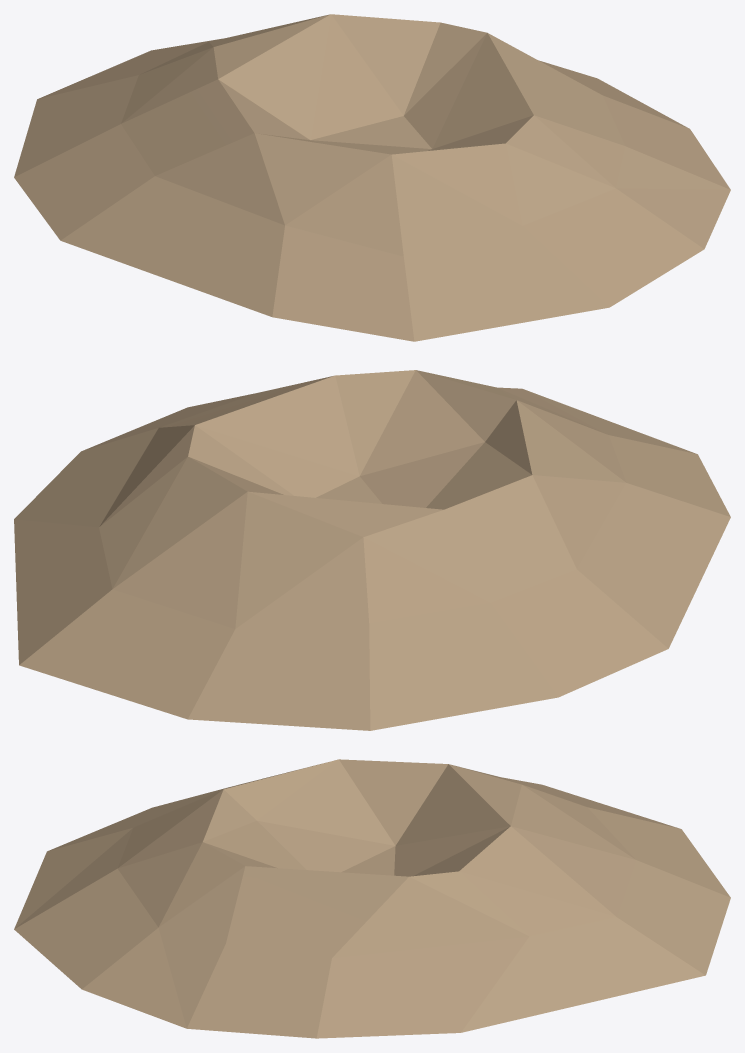
Rendered from kingdom_SM_Env_Ground_Crater_01.gltf.
3 renders of one model, top to bottom at view 1: azimuth 30°, elevation 25°; view 2: azimuth 150°, elevation 25°; view 3: azimuth 270°, elevation 25°, orthographic. The views are drawn at different scales.
Visible parts, largest first — view 1: SM_Env_Ground_Crater_01; view 2: SM_Env_Ground_Crater_01; view 3: SM_Env_Ground_Crater_01.
Boxes of the visible parts, bbox=[...] form: SM_Env_Ground_Crater_01: bbox=[14, 14, 730, 341]; SM_Env_Ground_Crater_01: bbox=[14, 370, 730, 730]; SM_Env_Ground_Crater_01: bbox=[14, 759, 730, 1038].
Bounding box in the file's own units: 2.27 × 0.4025 × 2.58.
1 material, 1 textured.
